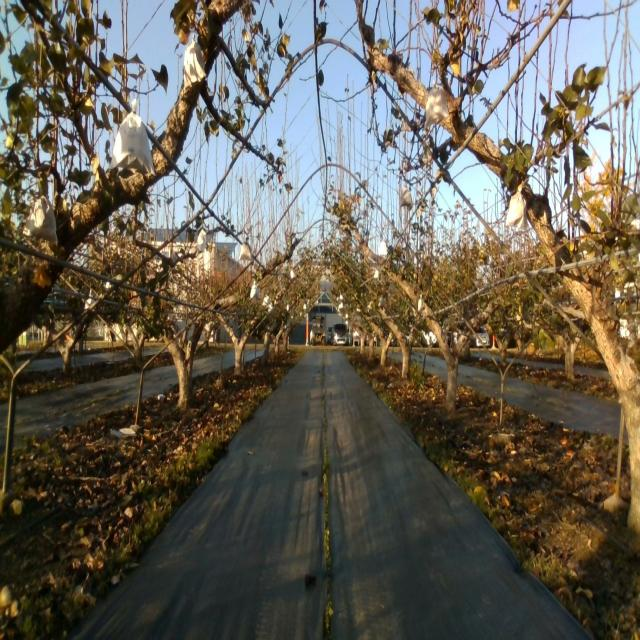pearbags: (109, 100, 155, 178), (22, 196, 59, 246), (182, 35, 205, 89), (426, 81, 448, 130), (506, 184, 528, 232), (400, 186, 412, 207), (239, 240, 251, 260)
